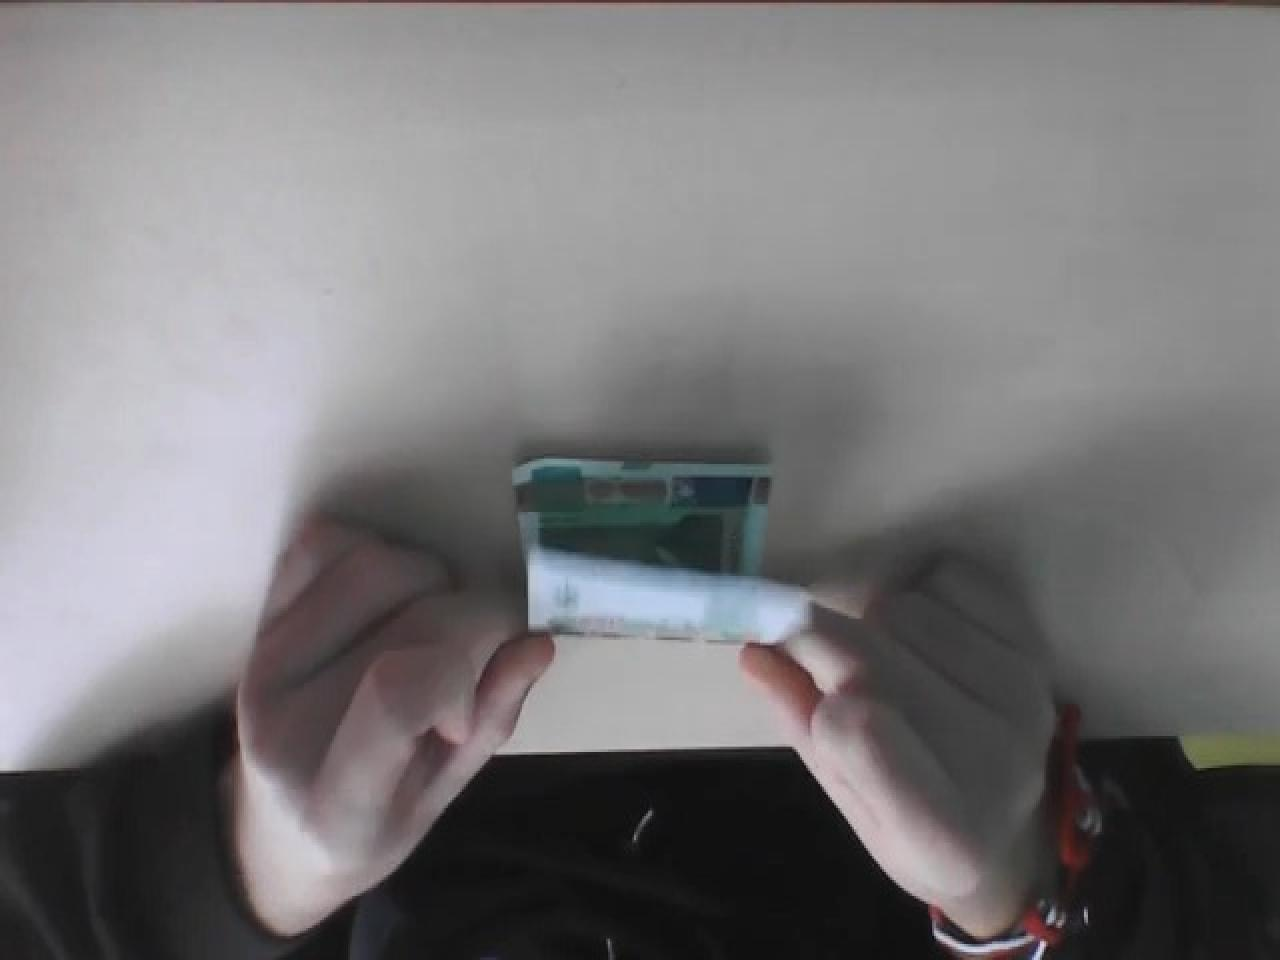100leva: (508, 451, 810, 650)
